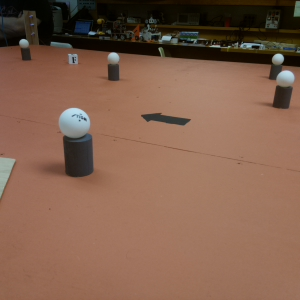blockF: (67, 53, 78, 65)
corner: (23, 10, 40, 45)
obstacle: (58, 104, 97, 178), (272, 69, 293, 109), (106, 51, 122, 82), (270, 54, 284, 79), (18, 38, 33, 61)
start: (141, 107, 192, 132)
